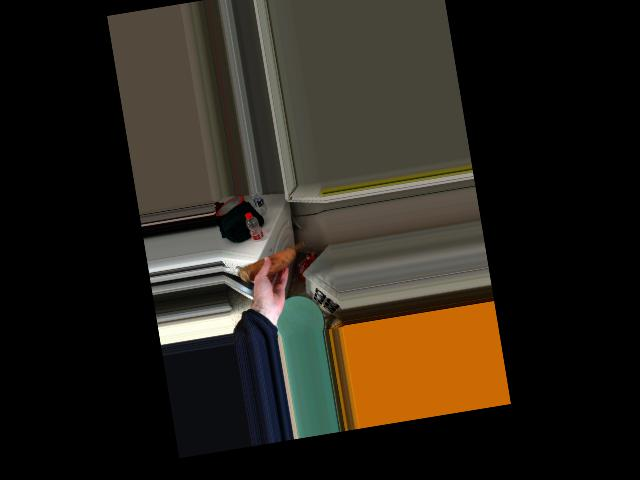sweet_potato: (238, 239, 306, 285)
